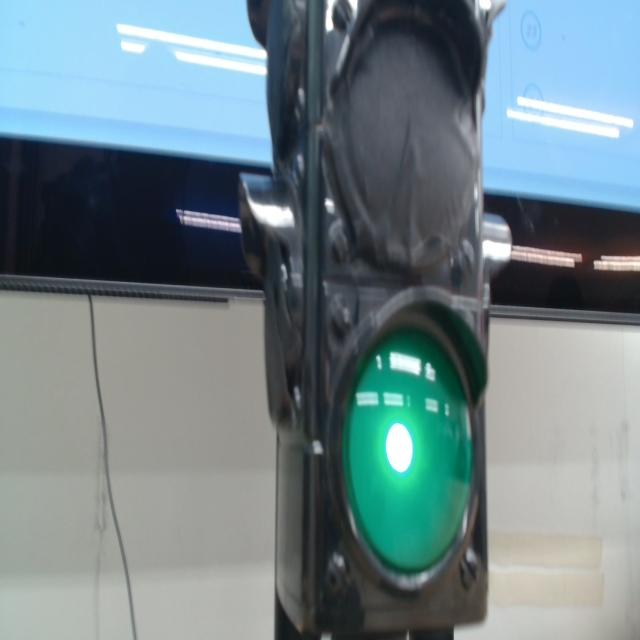green_light: (343, 328, 472, 573), (386, 424, 412, 472)
